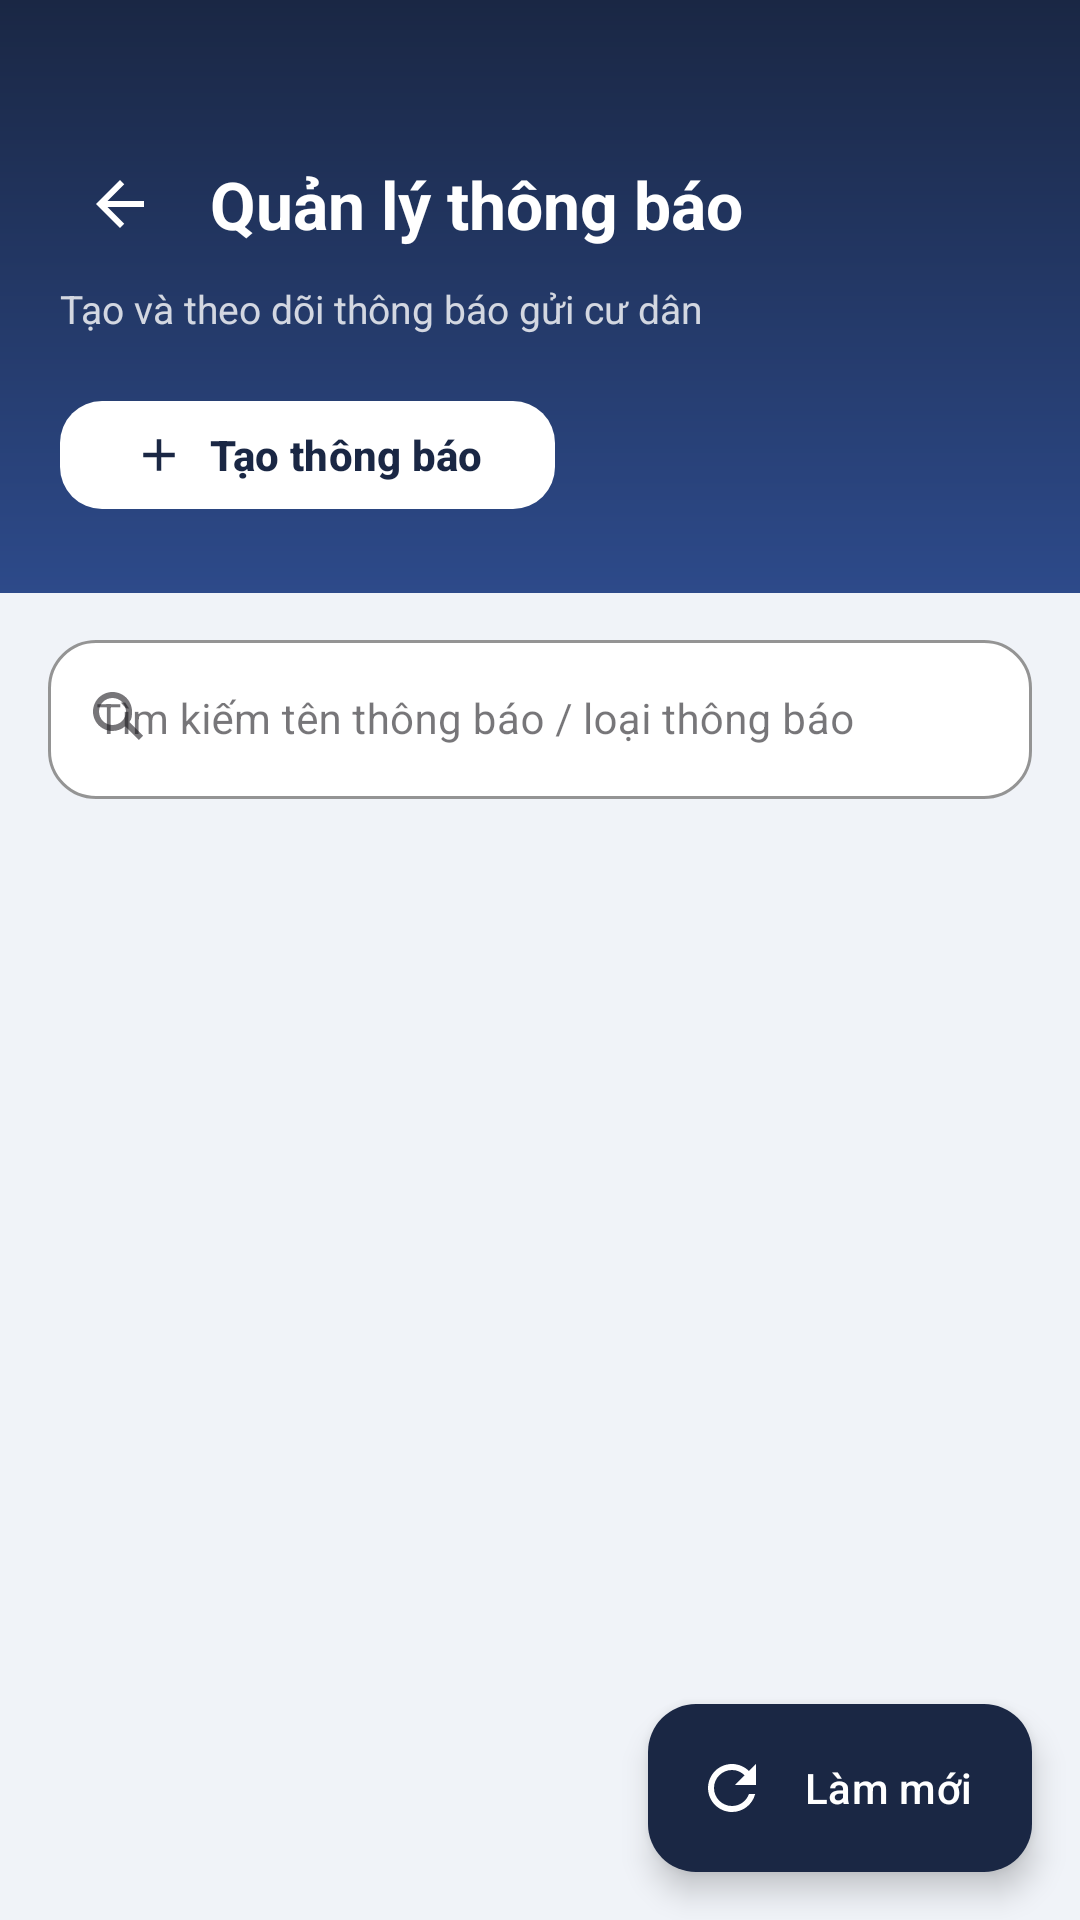

Icon click points for this 1080px×1920px phone screenshot, format point (x, y):
Quay về trang chủ admin: point (120, 204)
